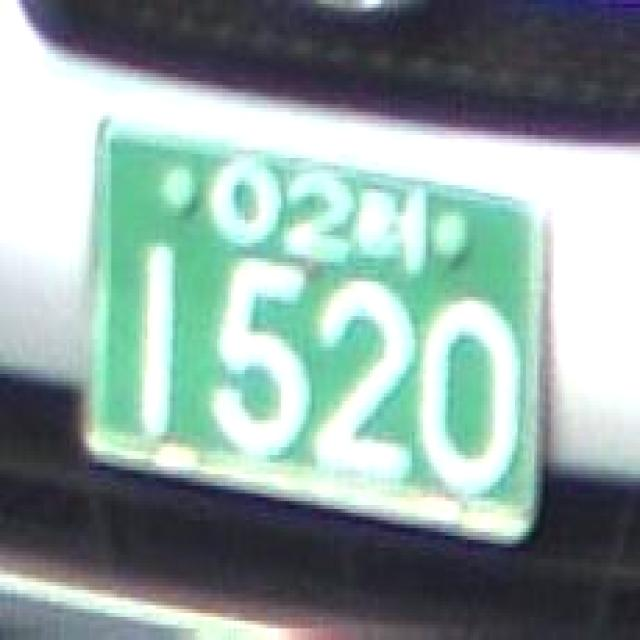illegal_plate: (67, 101, 568, 565)
